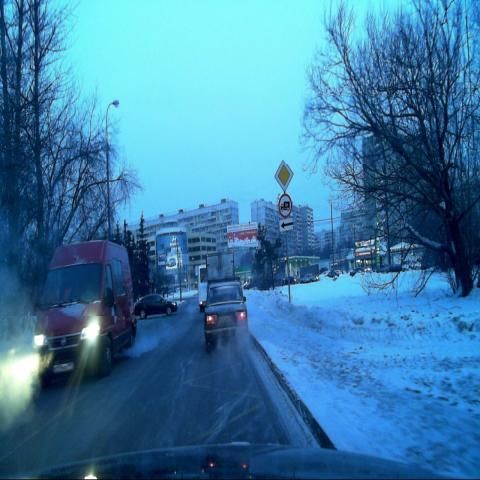3_4: (278, 194, 292, 219)
8_3_2: (278, 220, 295, 234)
